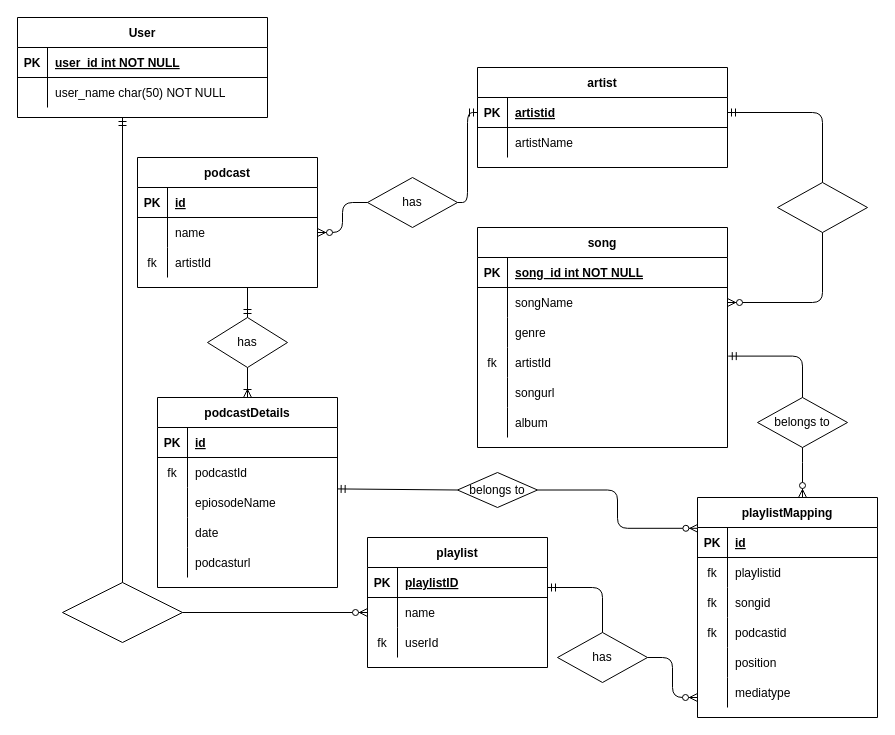
The diagram is 895 pixels wide and 735 high, and some of its shapes have lost their labels. Here are the shapes that lost their labels. From the top down, the centre of each, then its label:
(822,207): sings
(122,612): creates
